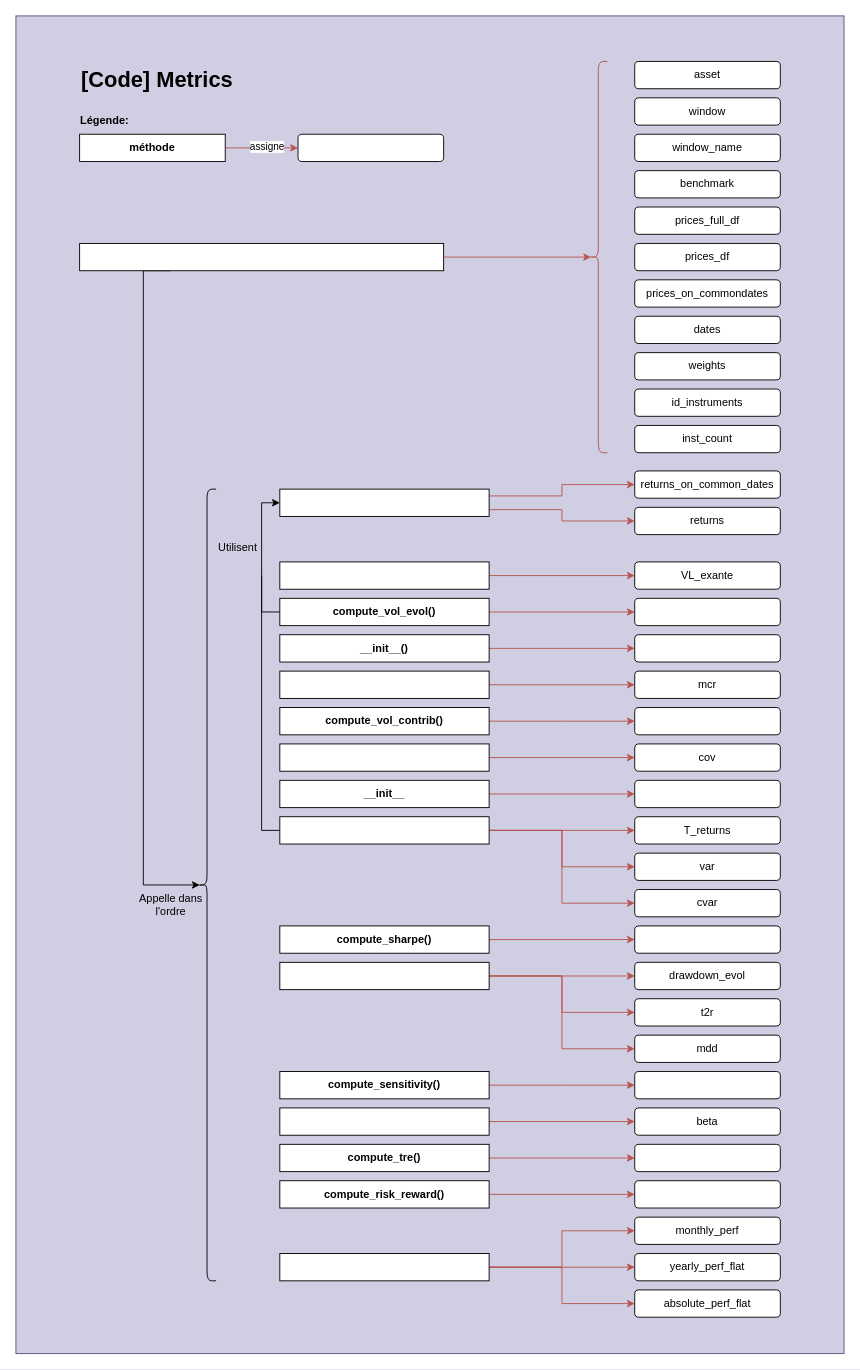
This 860x1370 diagram has some shape labels left out. Each missing label, with the centre of its shape:
__init__(window_name, window, asset, T, alpha, risk_free_rate): [261,257]
attribut: [370,147]
compute_beta(): [384,1121]
compute_cov(): [384,757]
compute_drawdown_evol(): [384,975]
compute_marginal_vol_contrib(): [384,684]
compute_perf_flat(): [384,1267]
compute_returns(prices_df, weights, T): [384,502]
compute_VL_exante(): [384,575]
cor: [707,793]
risk_reward: [707,1194]
sensitivity: [707,1085]
sharpe: [707,939]
tre: [707,1157]
update_var_cvar(T,alpha): [384,830]
vol: [707,648]
vol_contrib: [707,721]
vol_evol: [707,611]
